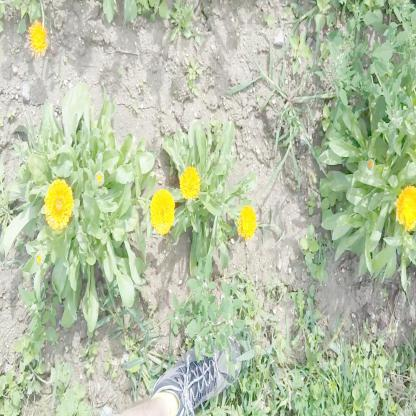marigold: (45, 179, 73, 228), (148, 190, 172, 234), (25, 21, 49, 55), (395, 190, 415, 229), (238, 204, 256, 240), (179, 167, 199, 198)
